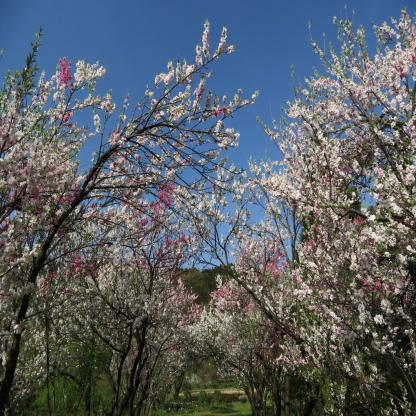Momo: (0, 13, 260, 394), (195, 3, 416, 416)
